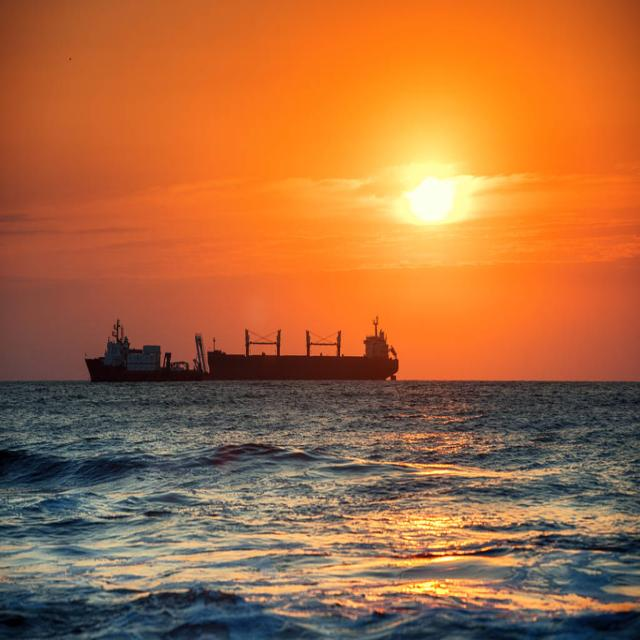cargoship: (72, 304, 405, 410)
